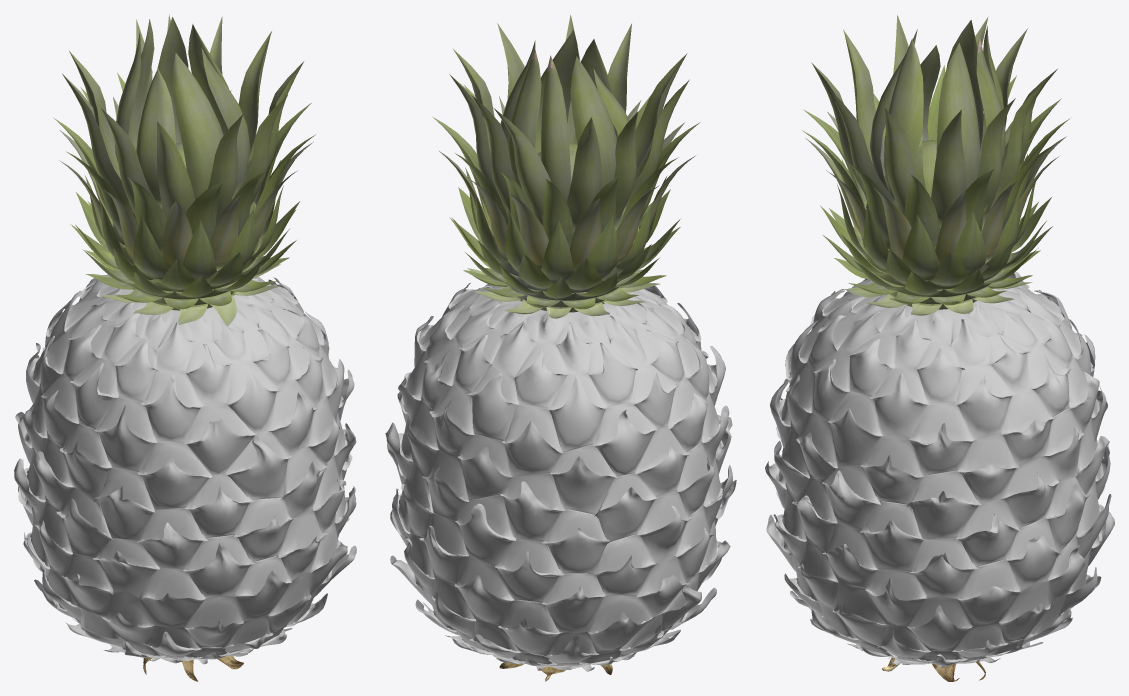
The model's file is pinapple.obj.
3 views of the same model, side by side, from view 1: azimuth 30°, elevation 25°; view 2: azimuth 150°, elevation 25°; view 3: azimuth 270°, elevation 25° (orthographic).
Visible parts, largest first — view 1: NGon004, Sphere003; view 2: NGon004, Sphere003; view 3: NGon004, Sphere003.
Part boxes in pixels (x1=…): NGon004: x1=14, y1=274, x2=356, y2=664; Sphere003: x1=53, y1=14, x2=315, y2=326; NGon004: x1=385, y1=282, x2=736, y2=671; Sphere003: x1=432, y1=15, x2=700, y2=318; NGon004: x1=765, y1=271, x2=1114, y2=667; Sphere003: x1=802, y1=15, x2=1069, y2=315.
Bounding box in the file's own units: 2.7 × 5.34 × 2.67.
